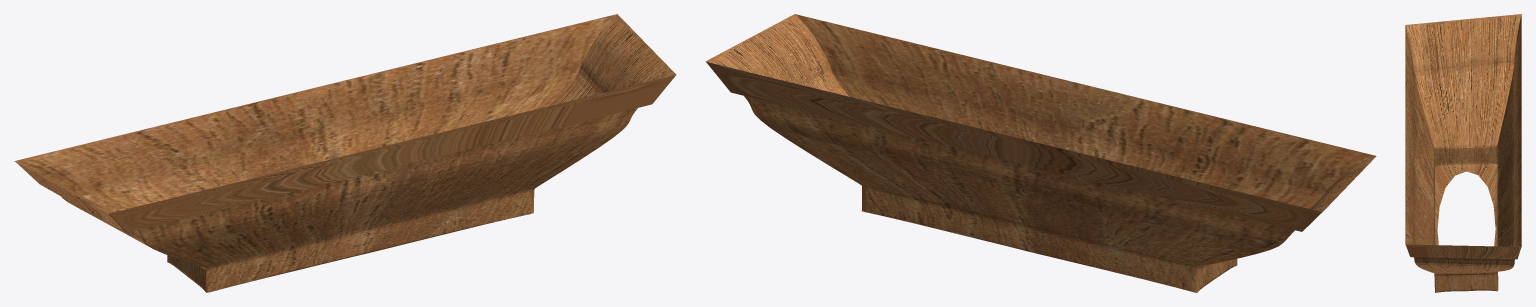
Rendered from Modeling Canoa .fbx.
3 renders of one model, left to right at view 1: azimuth 30°, elevation 25°; view 2: azimuth 150°, elevation 25°; view 3: azimuth 270°, elevation 25°, orthographic. The views are drawn at different scales.
Visible parts, largest first — view 1: Cube; view 2: Cube; view 3: Cube.
Boxes of the visible parts, x1,y1,x2,y2 form: Cube: (14, 14, 676, 292); Cube: (705, 14, 1376, 292); Cube: (1405, 14, 1521, 292).
Bounding box in the file's own units: 9.48 × 1.9 × 2.
